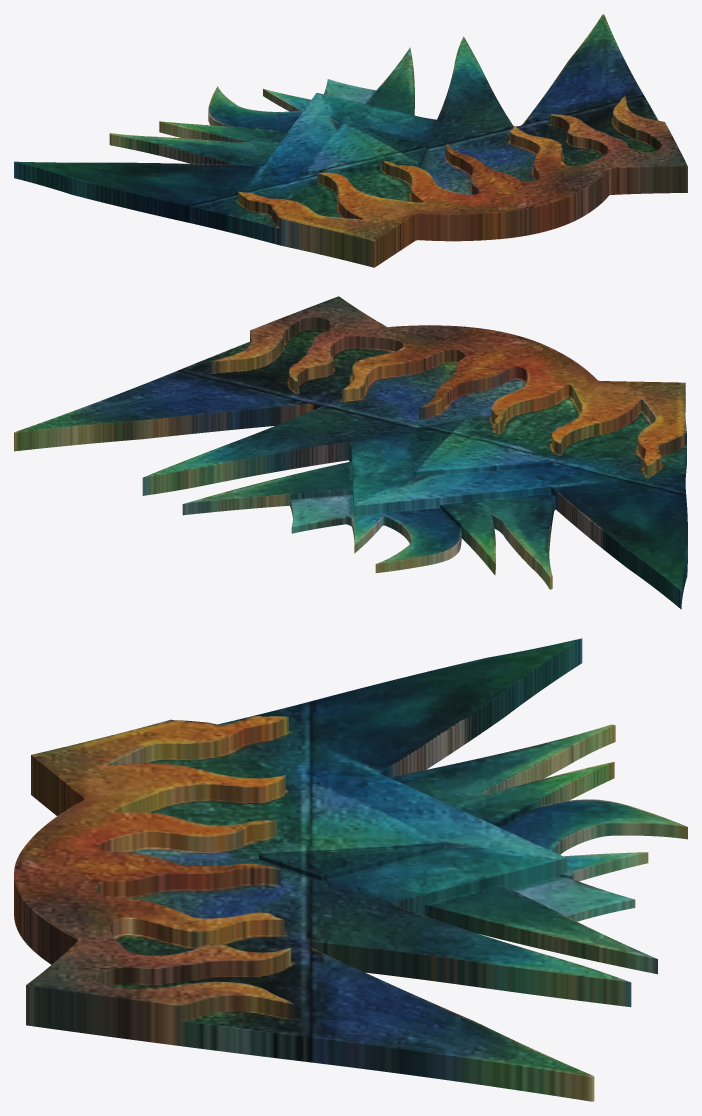
Rendered from El origen de nuestra 6.dae.
3 renders of one model, top to bottom at view 1: azimuth 30°, elevation 25°; view 2: azimuth 150°, elevation 25°; view 3: azimuth 270°, elevation 25°, orthographic. The views are drawn at different scales.
Parts seen in each view (by area): view 1: SketchUp; view 2: SketchUp; view 3: SketchUp.
Part boxes in pixels (x1,y1,x2,y2): SketchUp: [14, 14, 687, 267]; SketchUp: [14, 296, 687, 609]; SketchUp: [14, 638, 687, 1101].
Bounding box in the file's own units: 42.59 × 27.65 × 1.81.
Materials: 1 (1 with a texture image).
